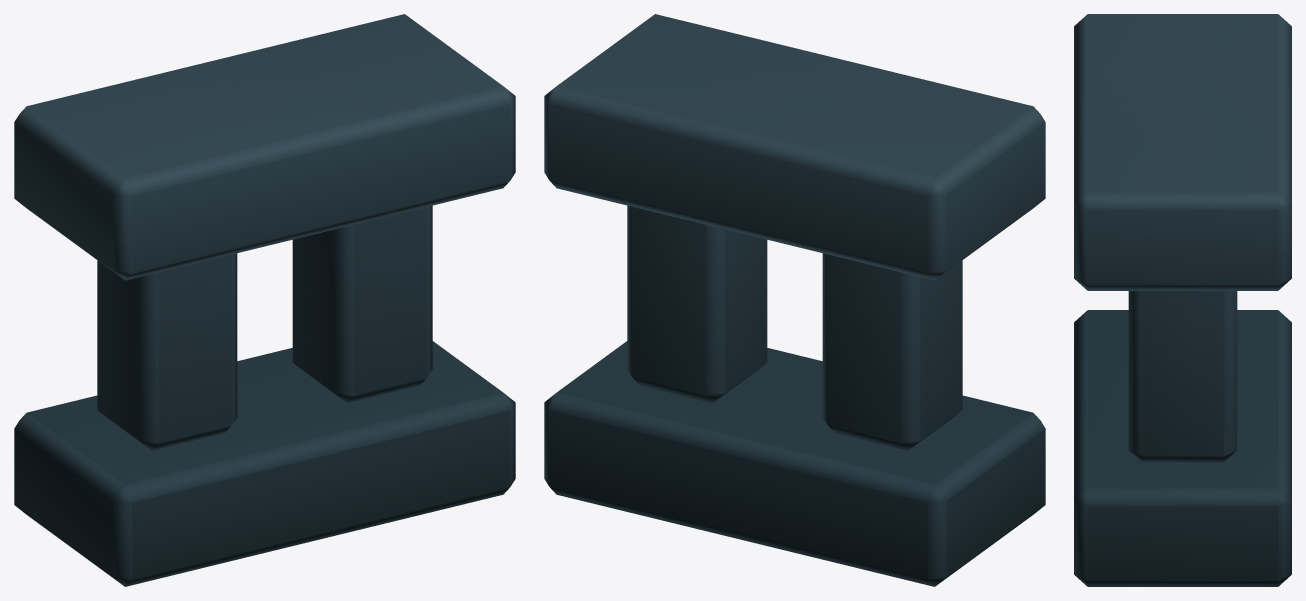
File: fence_01_hue_4.fbx
3 renders of one model, left to right at view 1: azimuth 30°, elevation 25°; view 2: azimuth 150°, elevation 25°; view 3: azimuth 270°, elevation 25°, orthographic. The views are drawn at different scales.
Parts seen in each view (by area): view 1: fence_01_hue_4; view 2: fence_01_hue_4; view 3: fence_01_hue_4.
Boxes of the visible parts, left/top/right/bottom form: fence_01_hue_4: left=14, top=14, right=515, bottom=586; fence_01_hue_4: left=544, top=14, right=1045, bottom=586; fence_01_hue_4: left=1074, top=14, right=1291, bottom=586.
Bounding box in the file's own units: 103 × 100 × 50.
